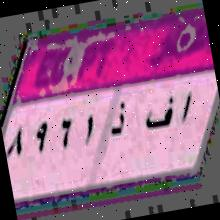1: (78, 109, 101, 153)
6: (54, 107, 80, 165)
8: (2, 123, 30, 172)
9: (30, 119, 56, 162)
alif: (173, 84, 198, 132)
faa: (139, 88, 180, 140)
zaal: (105, 96, 133, 142)
